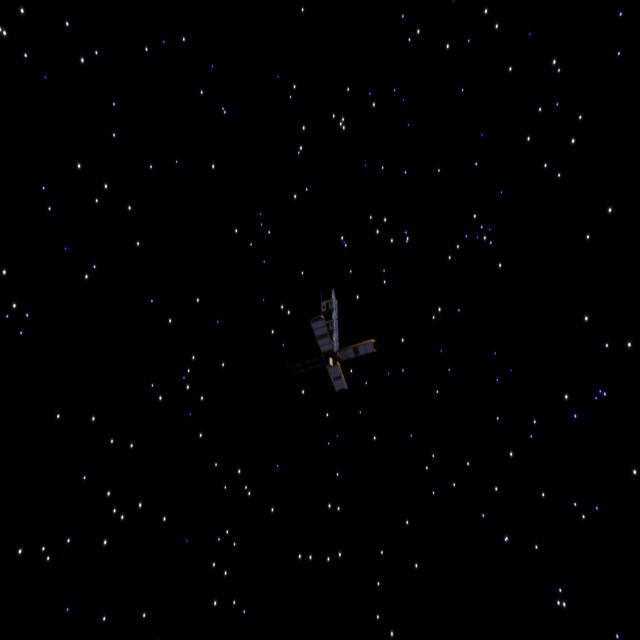medium_debris: (298, 280, 377, 401)
